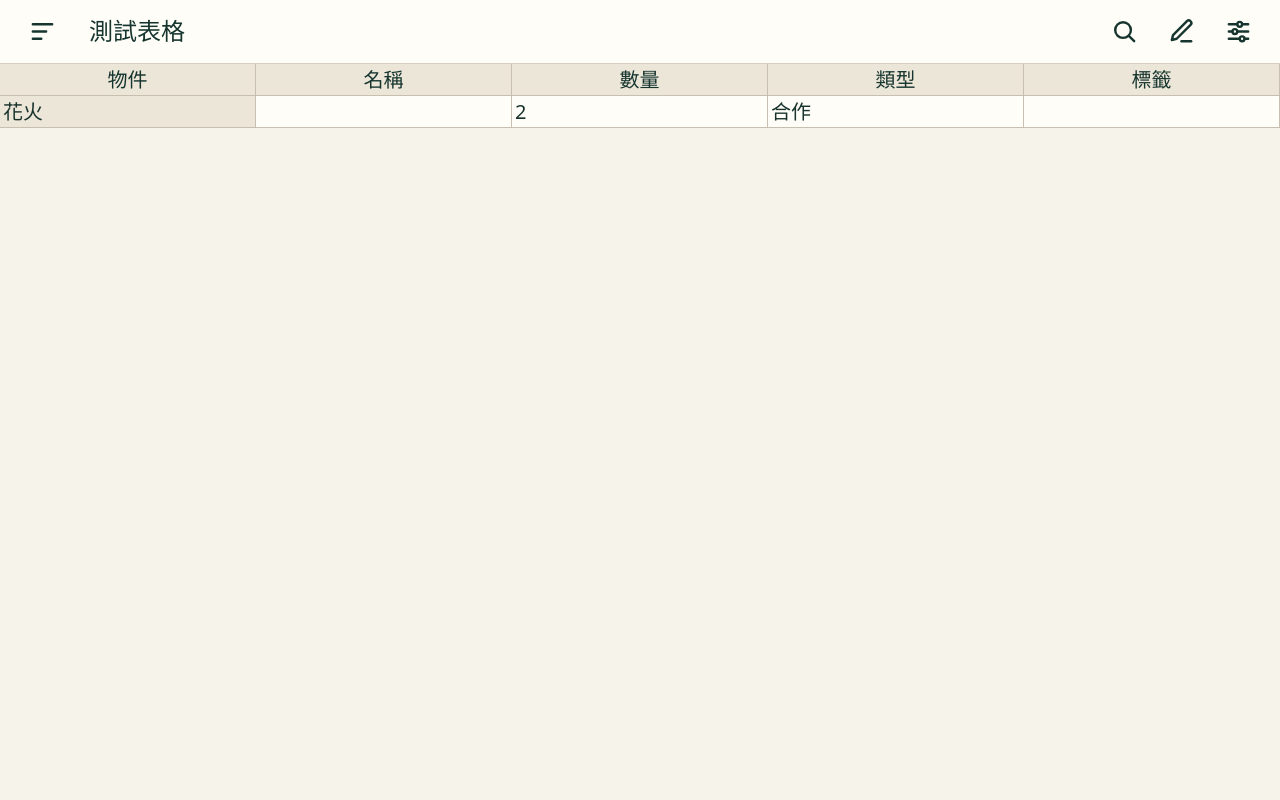
Test: WorkspacePage.selection › opens the dynamic selection search and commits a new value from text submission
This screenshot has width=1280, height=800.
Click the cell named "花火，標籤：空白".
click(1152, 112)  # box [1024, 96, 1279, 128]
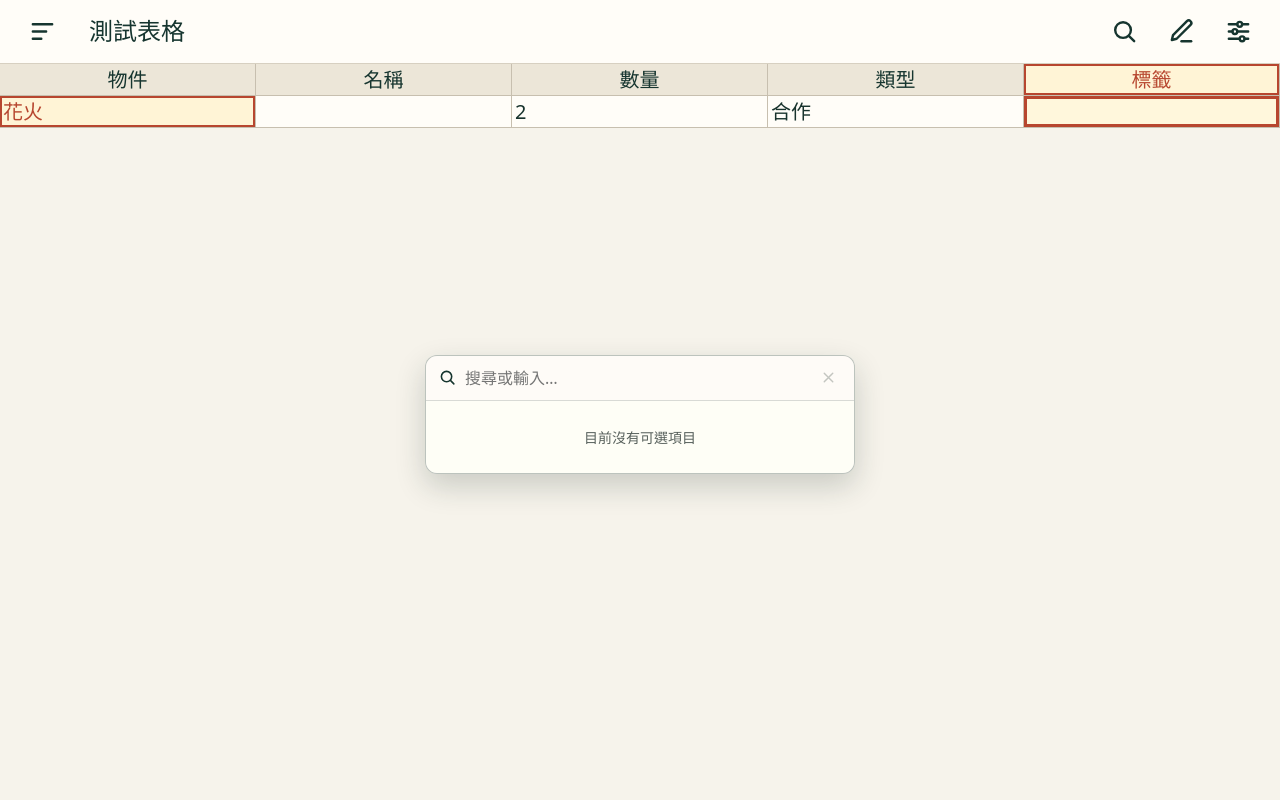
Now the dialog is shown, box [425, 354, 855, 474]
Type "新標籤" into the field named "搜尋或新增選項".
click(636, 378); type("新標籤")  # box [465, 362, 806, 394]
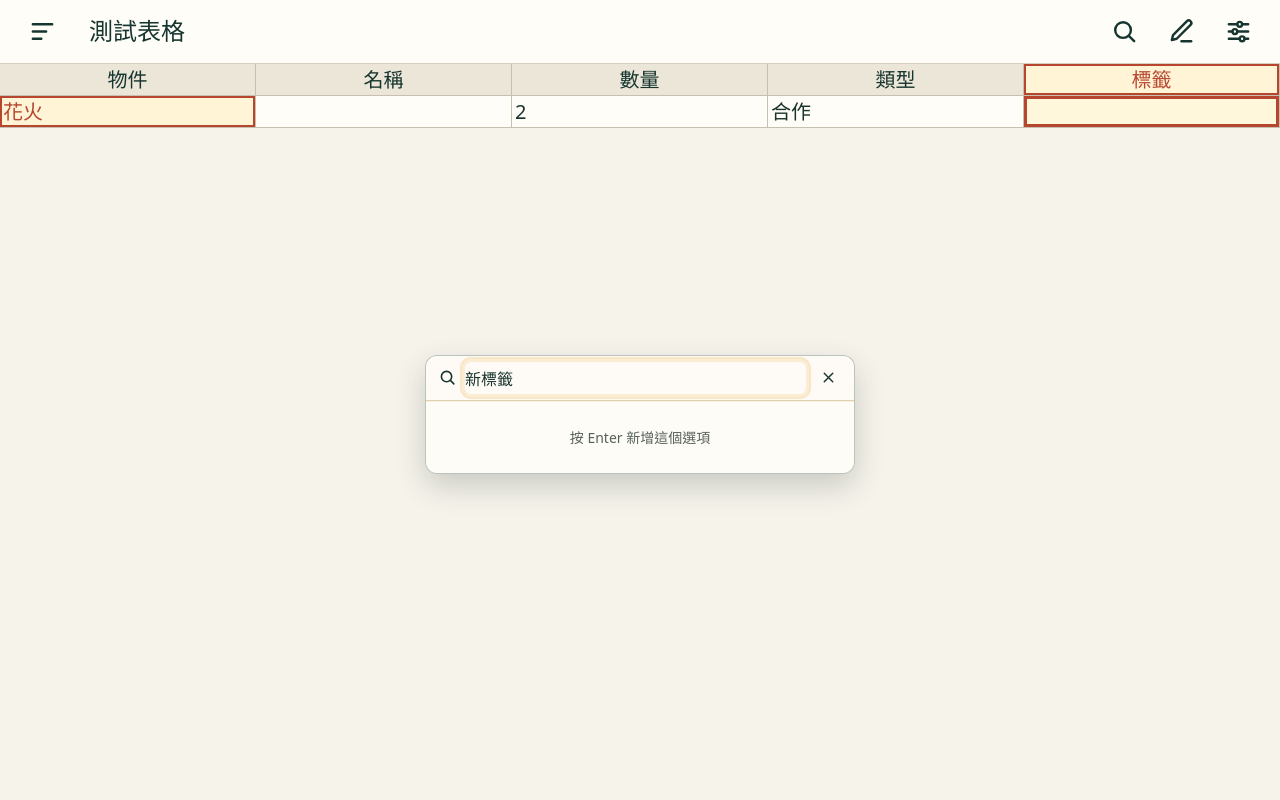
Click the element with class "workspace-selection-dialog-overlay".
click(640, 414)  # box [425, 354, 855, 474]
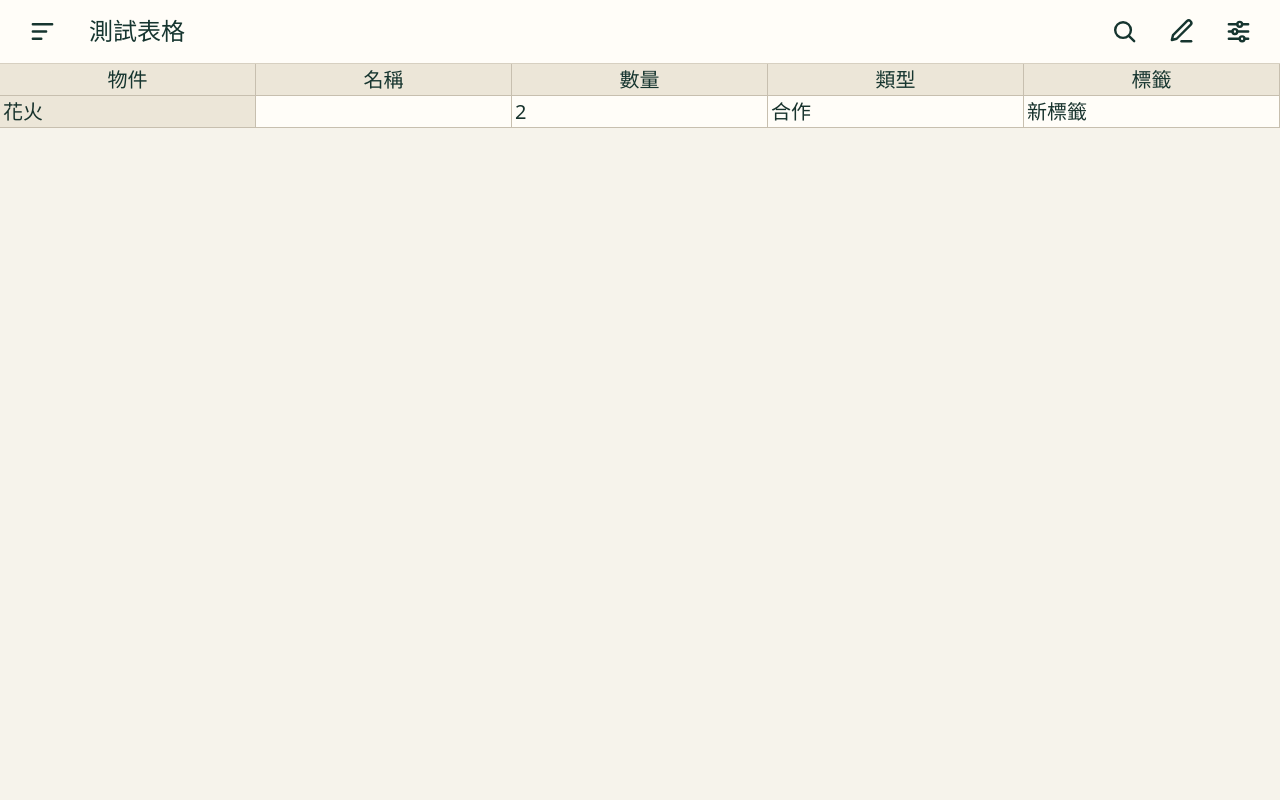
Now the dialog is gone
Now the text "新標籤" is shown, box [1027, 98, 1087, 125]
